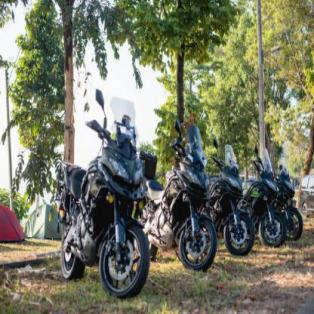Motocicleta: (55, 101, 150, 296), (147, 124, 220, 276), (213, 148, 255, 257), (253, 150, 288, 254), (278, 156, 306, 240)
